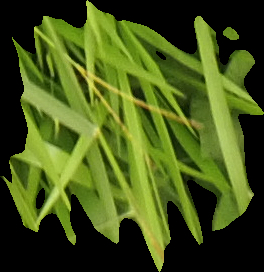grass: (1, 1, 263, 270)
